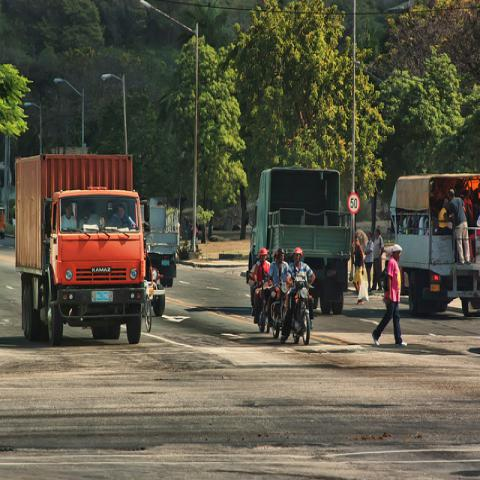motorcycle: (289, 276, 317, 346), (270, 282, 294, 338), (256, 280, 275, 333)
truck: (14, 154, 147, 343), (247, 162, 353, 316), (386, 171, 480, 317), (139, 205, 180, 288)
